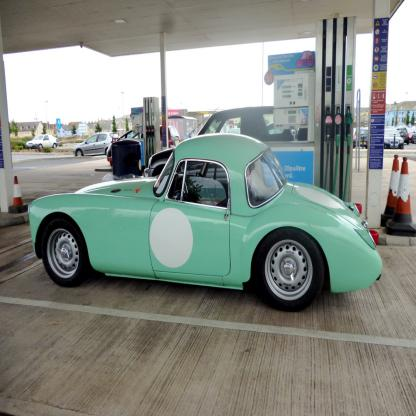Car: (28, 107, 383, 311), (106, 122, 181, 162), (353, 125, 416, 150), (73, 134, 120, 156), (26, 134, 58, 149)
